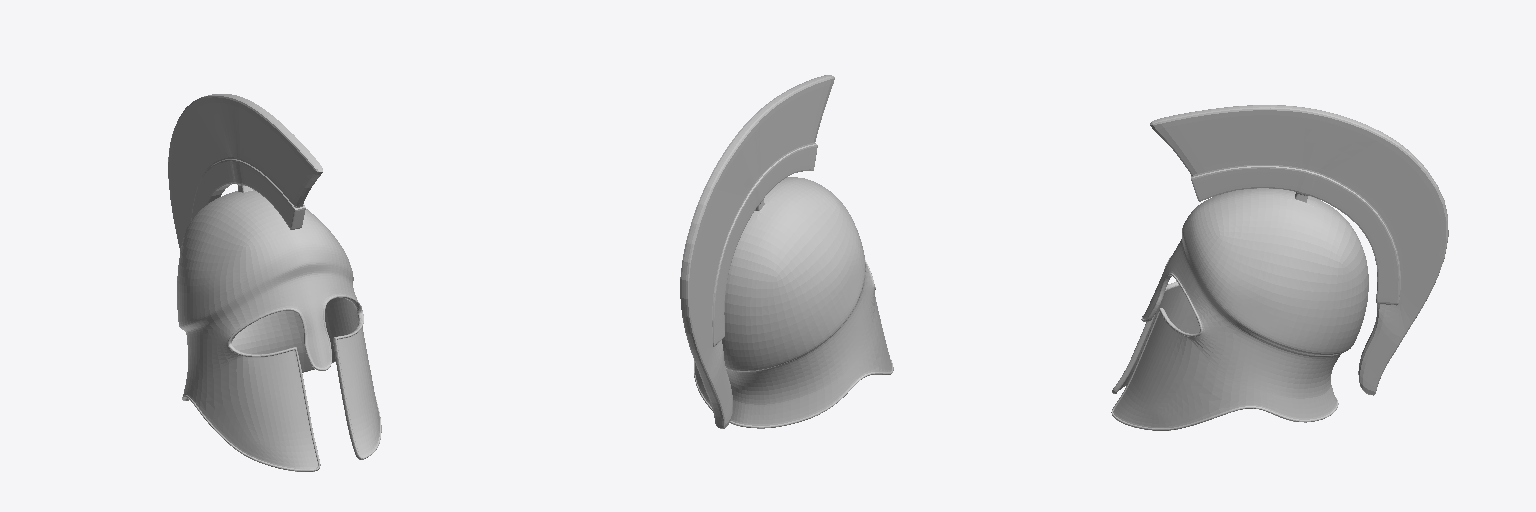
Rendered from arm.obj.
3 renders of one model, left to right at view 1: azimuth 30°, elevation 25°; view 2: azimuth 150°, elevation 25°; view 3: azimuth 270°, elevation 25°, orthographic.
Visible parts, largest first — view 1: Object_2; view 2: Object_2; view 3: Object_2.
Part boxes in pixels (left/top/right/bottom): Object_2: left=168, top=94, right=381, bottom=471; Object_2: left=680, top=75, right=893, bottom=428; Object_2: left=1111, top=105, right=1448, bottom=430.
Size of the model in its own units: 1.75 by 3.02 by 3.08.